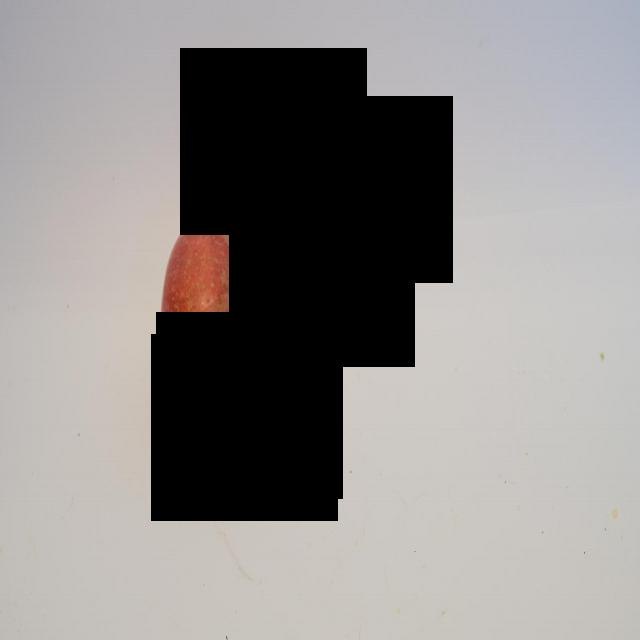apple: (156, 205, 269, 426)
